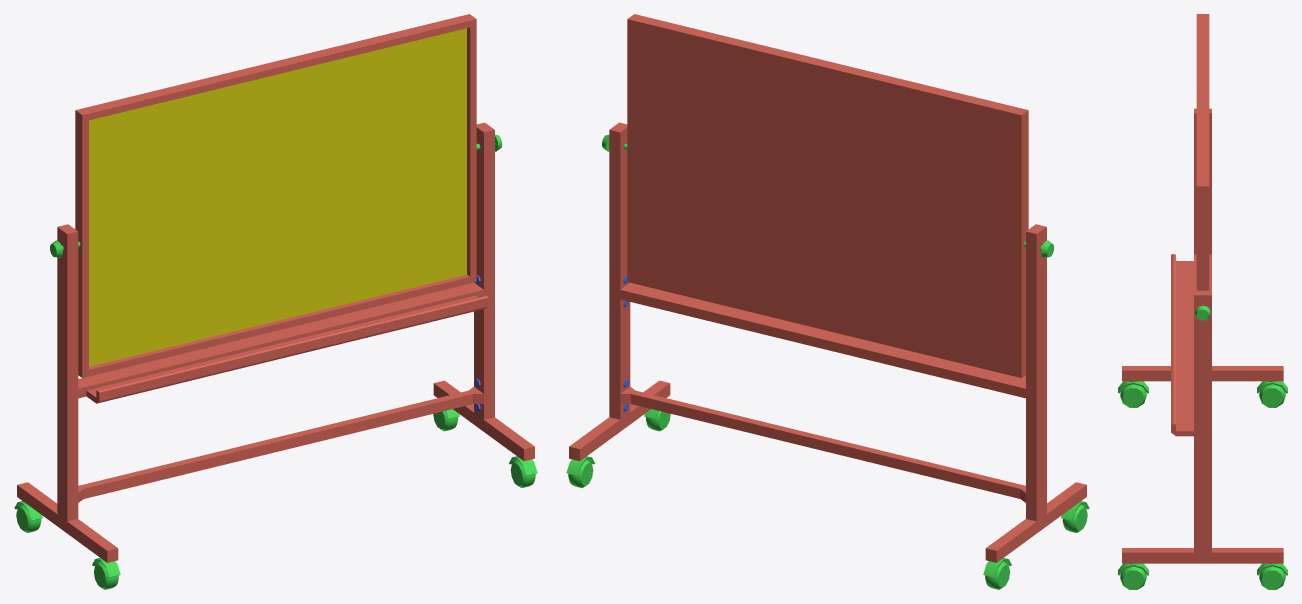
File: board.fbx
The picture shows the model from 3 angles, left to right: view 1: azimuth 30°, elevation 25°; view 2: azimuth 150°, elevation 25°; view 3: azimuth 270°, elevation 25°; orthographic projection. The views are drawn at different scales.
Visible parts, largest first — view 1: Board; view 2: Board; view 3: Board.
Part boxes in pixels (x1,y1,x2,y2): Board: (14,14,537,589); Board: (566,14,1089,589); Board: (1118,14,1287,589).
Bounding box in the file's own units: 355 × 337 × 131.
